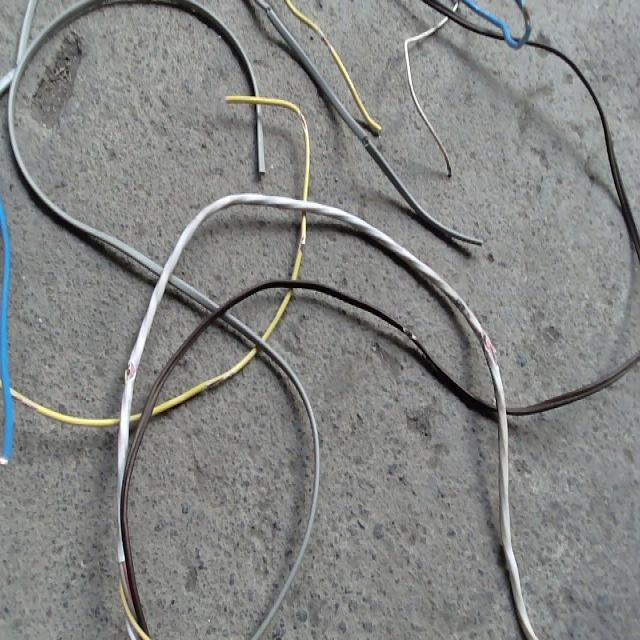-: (481, 329, 498, 364), (122, 359, 136, 384), (206, 375, 225, 388), (401, 324, 417, 339), (296, 235, 306, 253), (298, 110, 307, 130), (360, 132, 369, 147)
